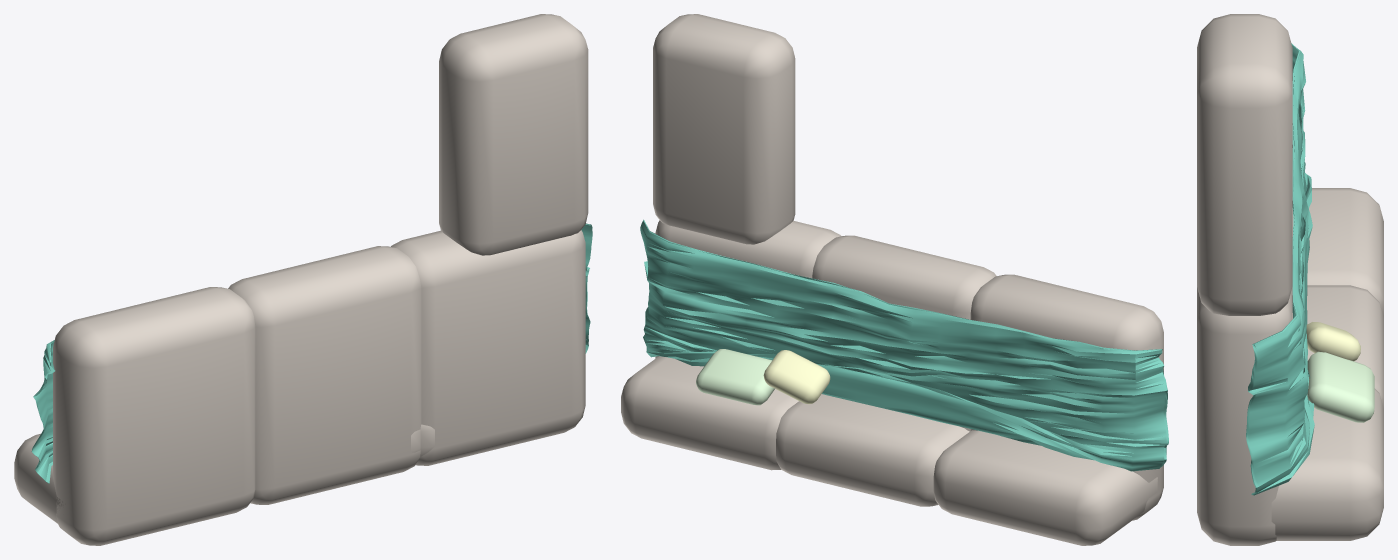
3 views of the same model, side by side, from view 1: azimuth 30°, elevation 25°; view 2: azimuth 150°, elevation 25°; view 3: azimuth 270°, elevation 25° (orthographic). The views are drawn at different scales.
Visible parts, largest first — view 1: 1층쇼파.1-Mat.8, 1층쇼파.1-Mat.1; view 2: 1층쇼파.1-Mat.8, 1층쇼파.1-Mat.1, 1층쇼파.1-Mat.3, 1층쇼파.1-Mat.2; view 3: 1층쇼파.1-Mat.8, 1층쇼파.1-Mat.1, 1층쇼파.1-Mat.3, 1층쇼파.1-Mat.2.
Boxes of the visible parts, x1,y1,x2,y2 form: 1층쇼파.1-Mat.8: (14,14,588,545); 1층쇼파.1-Mat.1: (31,223,592,483); 1층쇼파.1-Mat.8: (621,14,1163,545); 1층쇼파.1-Mat.1: (640,219,1168,471); 1층쇼파.1-Mat.3: (696,349,774,405); 1층쇼파.1-Mat.2: (763,350,830,404); 1층쇼파.1-Mat.8: (1197,14,1383,545); 1층쇼파.1-Mat.1: (1246,43,1314,495); 1층쇼파.1-Mat.3: (1307,351,1374,422); 1층쇼파.1-Mat.2: (1306,322,1360,361).
Size of the model in its own units: 159 by 111 by 38.95.
